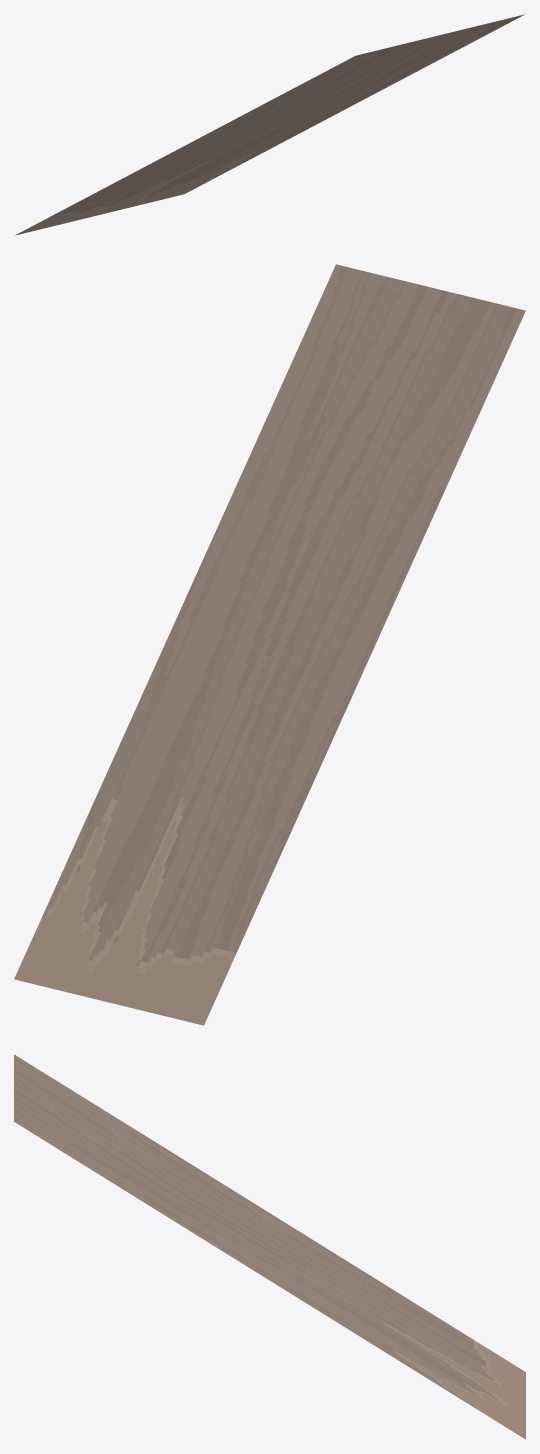
File: kd_stage_135b75_4_51_bounded_portal_piece_8.glb
3 renders of one model, top to bottom at view 1: azimuth 30°, elevation 25°; view 2: azimuth 150°, elevation 25°; view 3: azimuth 270°, elevation 25°, orthographic. The views are drawn at different scales.
Visible parts, largest first — view 1: kd_stage_135b75_4_51_bounded_portal_piece_8; view 2: kd_stage_135b75_4_51_bounded_portal_piece_8; view 3: kd_stage_135b75_4_51_bounded_portal_piece_8.
Boxes of the visible parts, x1,y1,x2,y2 form: kd_stage_135b75_4_51_bounded_portal_piece_8: (15,14,524,235); kd_stage_135b75_4_51_bounded_portal_piece_8: (14,264,525,1025); kd_stage_135b75_4_51_bounded_portal_piece_8: (14,1054,525,1439).
Bounding box in the file's own units: 0.2308 × 0.4535 × 0.6407.
Materials: 1 (1 with a texture image).
